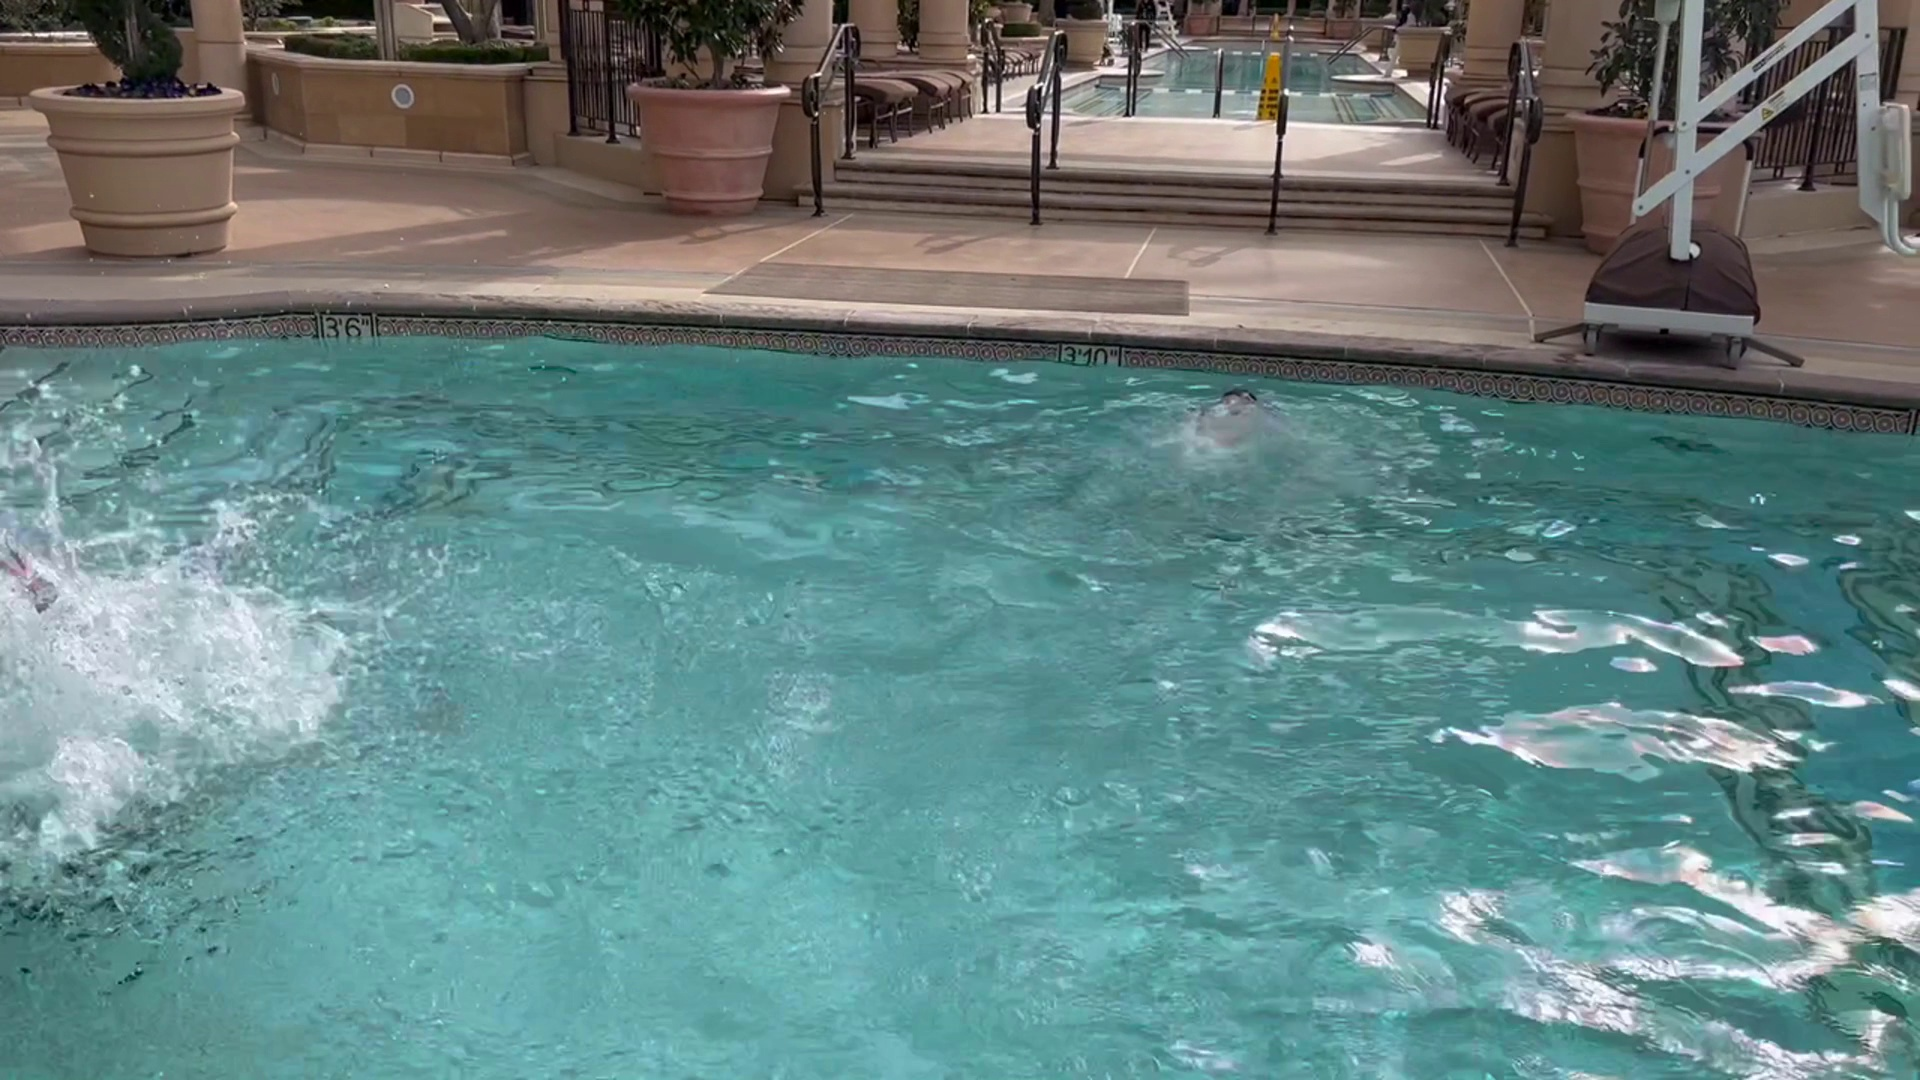danger: (1, 409, 468, 909)
